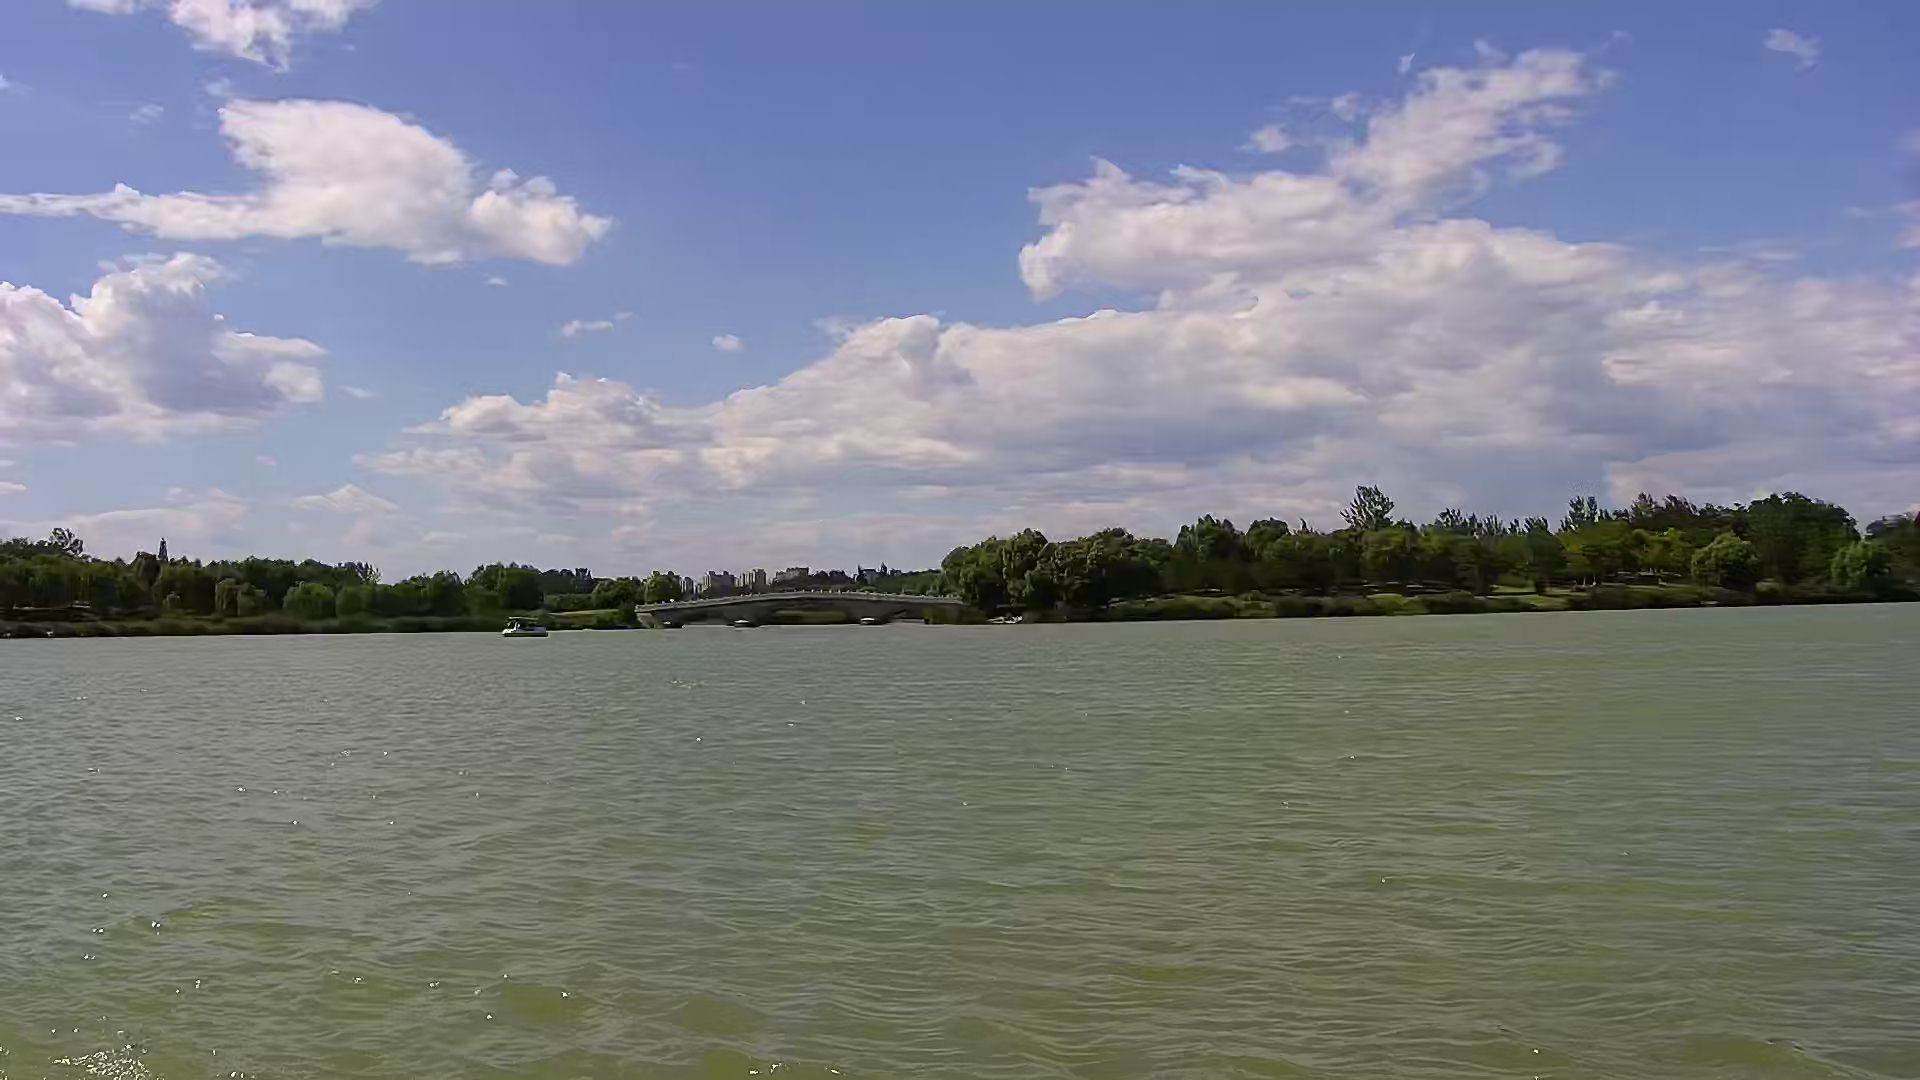boat: (498, 615, 553, 637)
bridge: (644, 588, 963, 625)
